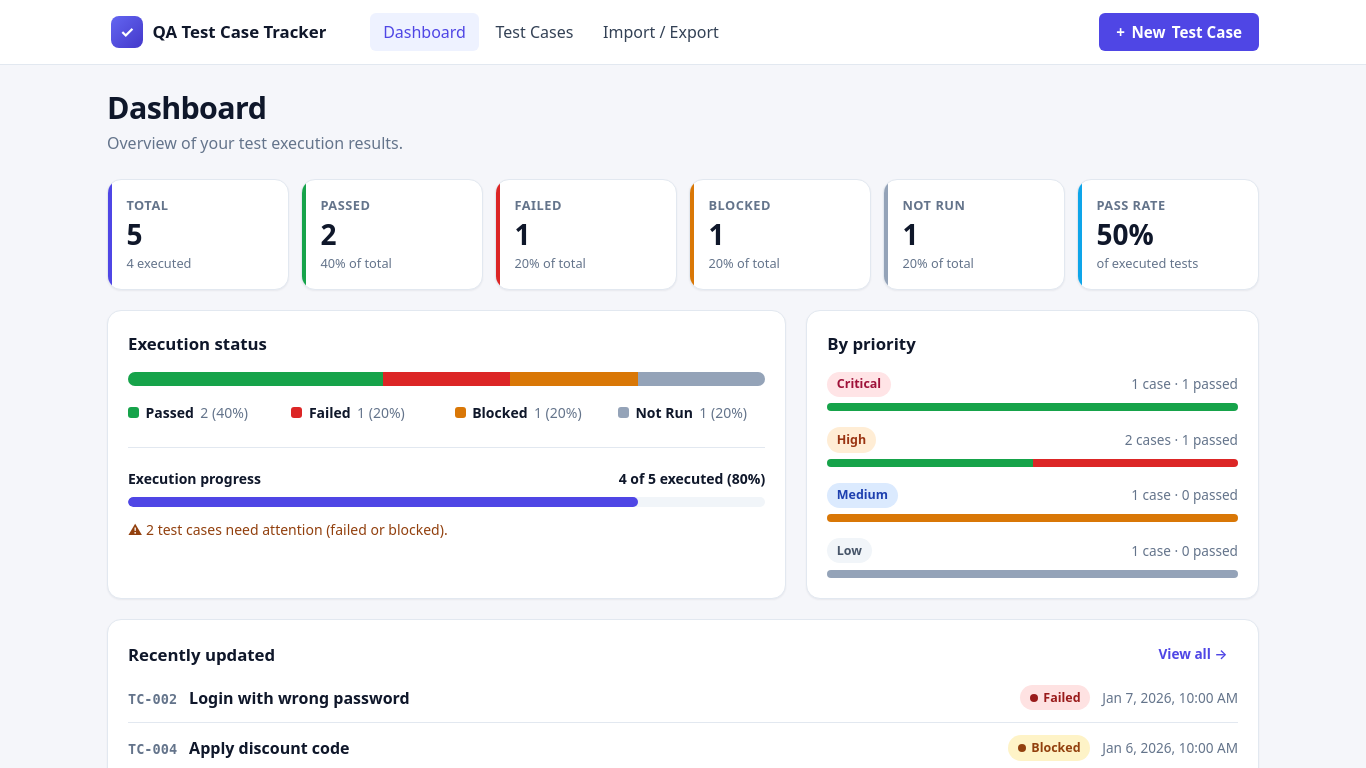
Test case: App › updates dashboard counts after a status change in the list
Expected: the text "2" is shown, [320,218,336,251]
Click the button "Test Cases" at (534, 32), box [483,13,586,51]
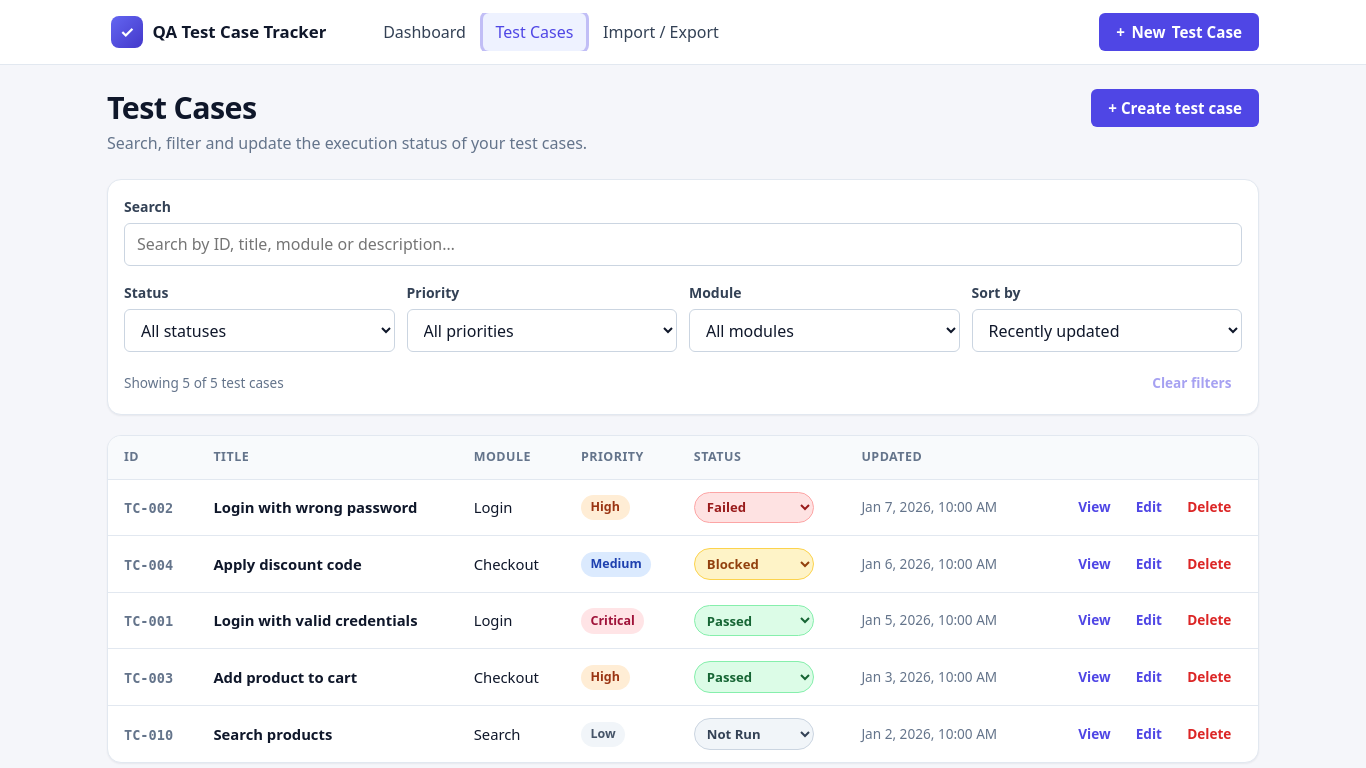
Select "Passed" in the dropdown named "Change status of TC-010" at (754, 734), box [694,718,814,750]
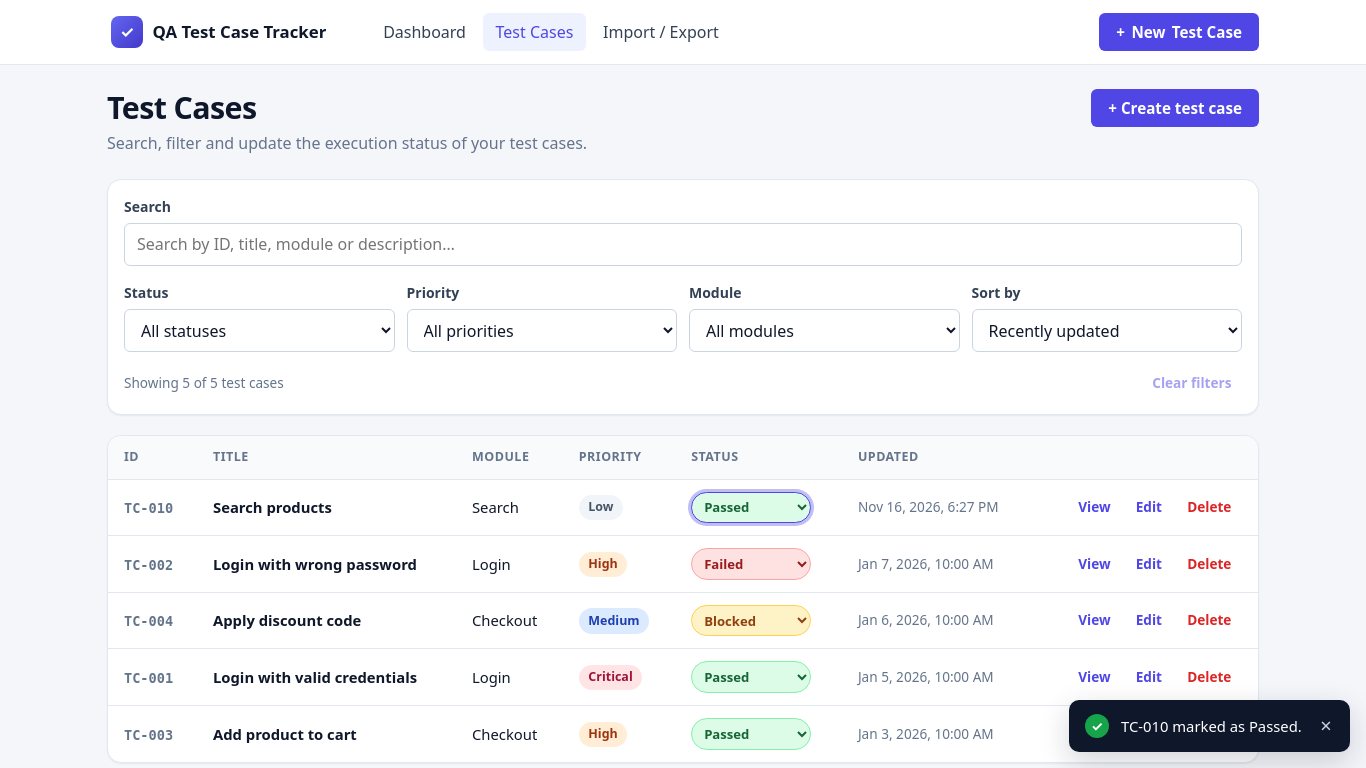
Expected: the message shows "TC-010 marked as Passed.", [1121,716,1302,736]
Click the button "Dashboard" at (424, 32), box [370,13,479,51]
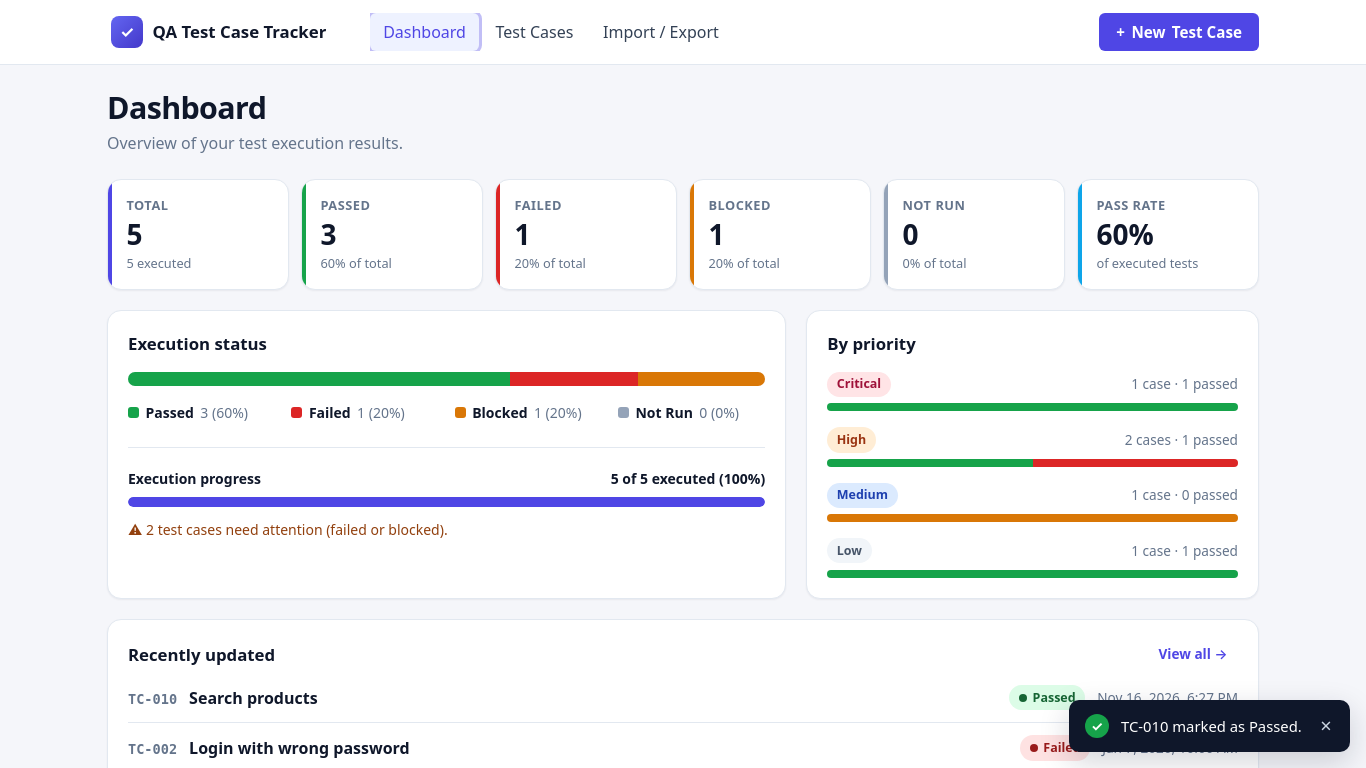
Expected: the text "3" is shown, [320,218,336,251]
